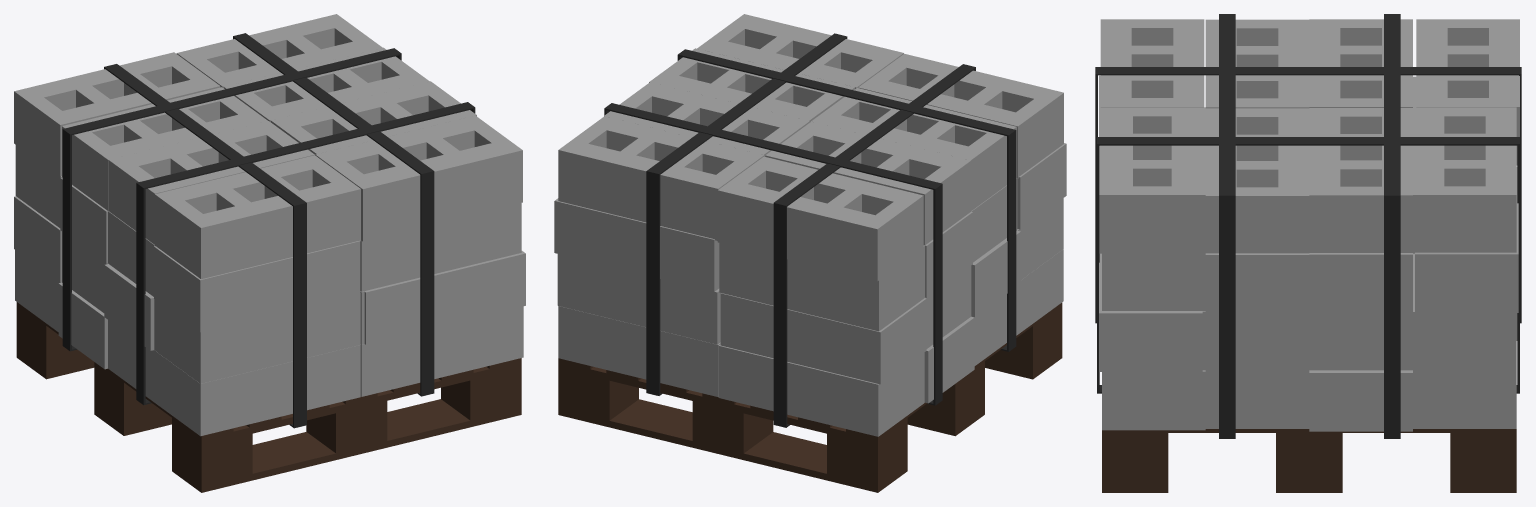
The model's file is brickPallet.obj.
3 views of the same model, side by side, from view 1: azimuth 30°, elevation 25°; view 2: azimuth 150°, elevation 25°; view 3: azimuth 270°, elevation 25° (orthographic). The views are drawn at different scales.
Parts seen in each view (by area): view 1: pallet; view 2: pallet; view 3: pallet.
Boxes of the visible parts, x1,y1,x2,y2 form: pallet: [14, 14, 525, 492]; pallet: [554, 14, 1066, 492]; pallet: [1095, 14, 1521, 492].
Size of the model in its own units: 5.18 by 4 by 5.14.
Materials: 1 (1 with a texture image).
